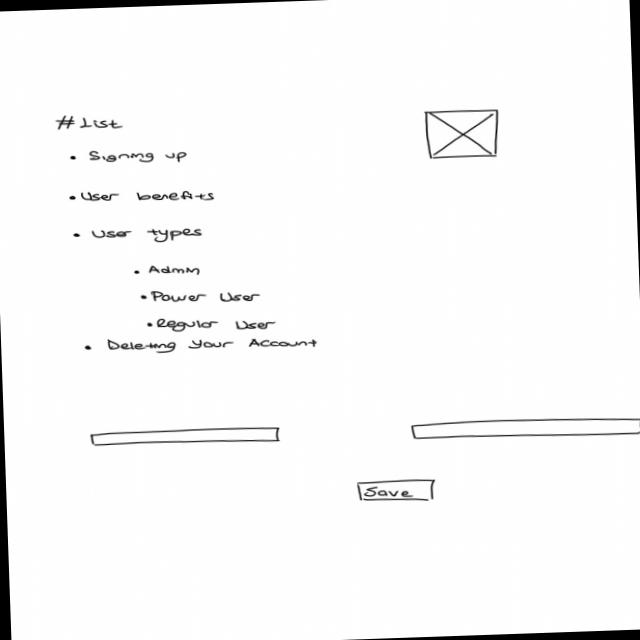button: (356, 477, 436, 504)
image: (422, 107, 501, 160)
input: (408, 413, 640, 442), (88, 425, 280, 447)
label: (104, 332, 318, 356), (78, 184, 216, 206), (155, 312, 278, 335), (149, 285, 261, 306), (89, 225, 202, 245), (88, 146, 188, 165), (53, 112, 124, 132), (148, 262, 202, 278)
